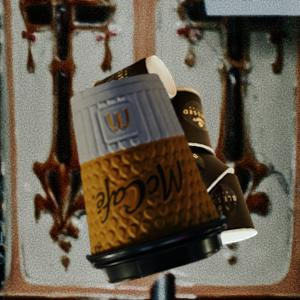cup: (68, 73, 224, 283)
